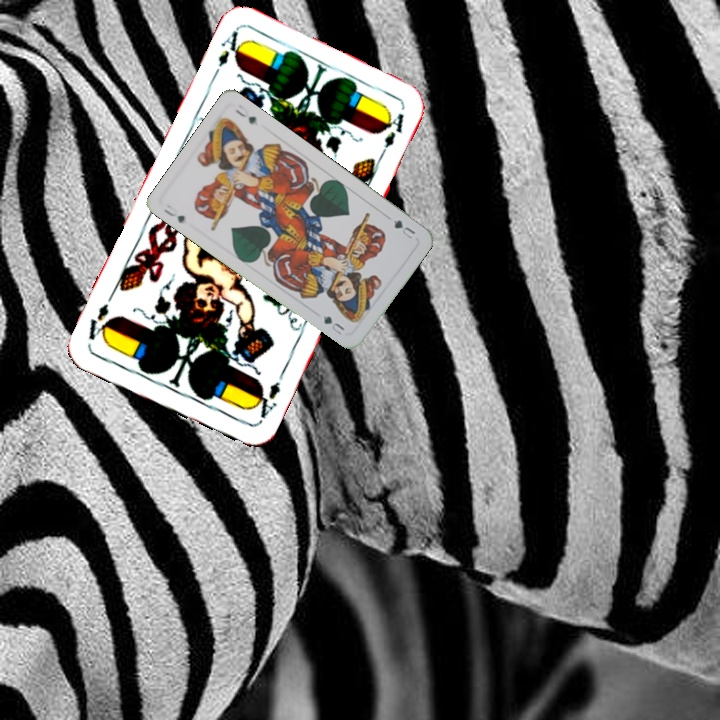EA: (208, 26, 247, 82), (247, 377, 284, 426)
GU: (389, 215, 418, 242), (160, 200, 188, 226)
